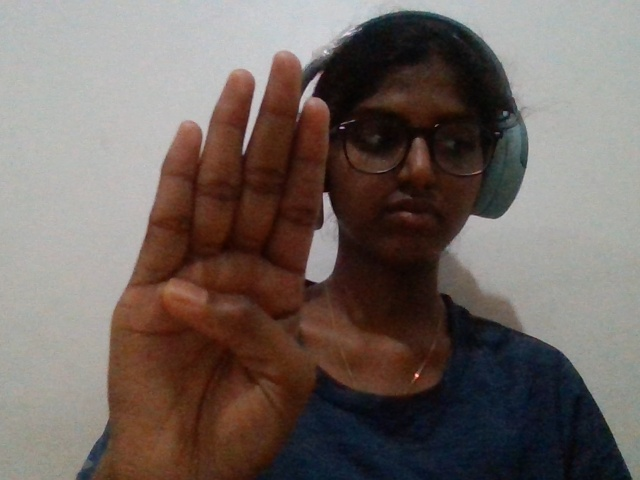B: (87, 47, 347, 480)
